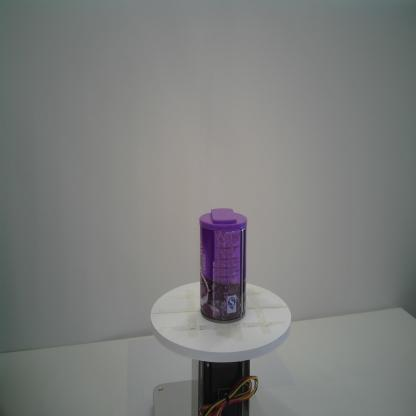Canned Food: (199, 208, 248, 324)
